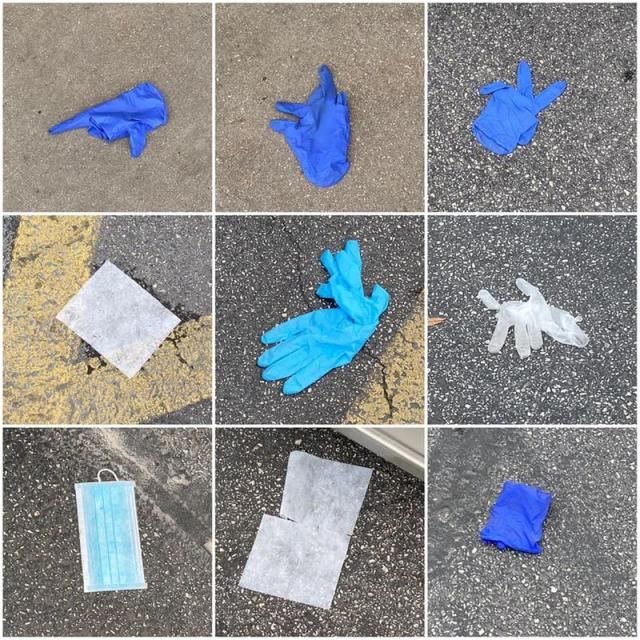non-organic waste: (75, 466, 153, 592)
